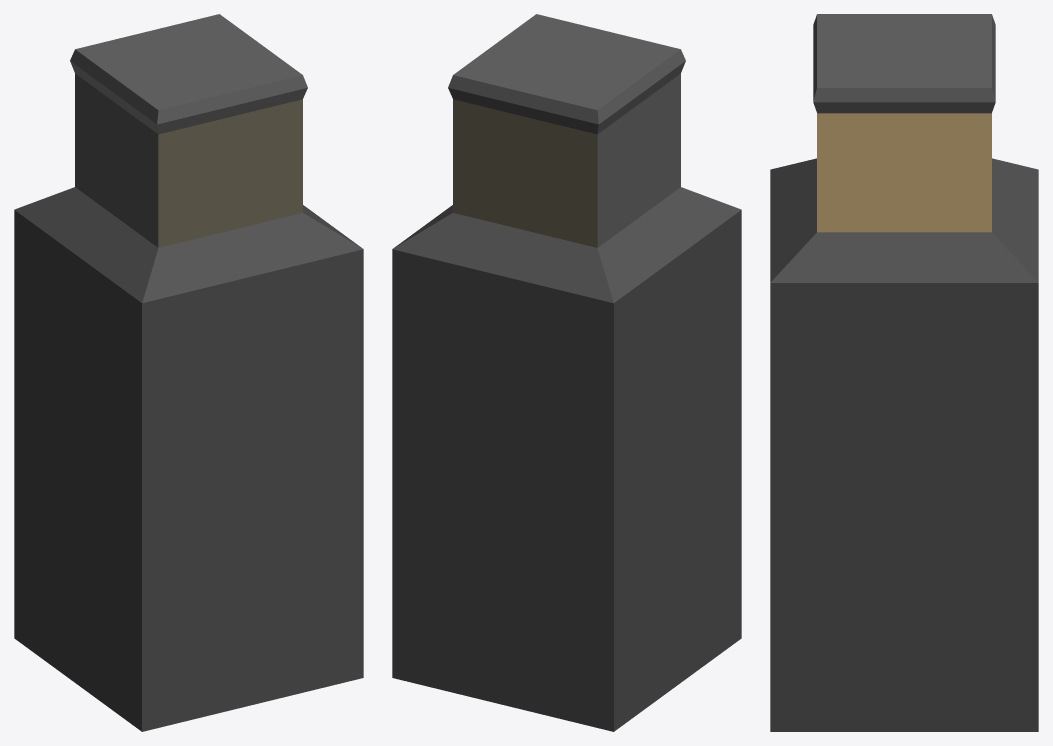
Rendered from GaseousGoose.fbx.
3 views of the same model, side by side, from view 1: azimuth 30°, elevation 25°; view 2: azimuth 150°, elevation 25°; view 3: azimuth 270°, elevation 25° (orthographic). The views are drawn at different scales.
Parts seen in each view (by area): view 1: Cube; view 2: Cube; view 3: Cube.
Boxes of the visible parts, x1,y1,x2,y2 form: Cube: (14, 14, 363, 731); Cube: (392, 14, 741, 731); Cube: (770, 14, 1038, 731).
Size of the model in its own units: 39.29 by 101 by 39.29.
